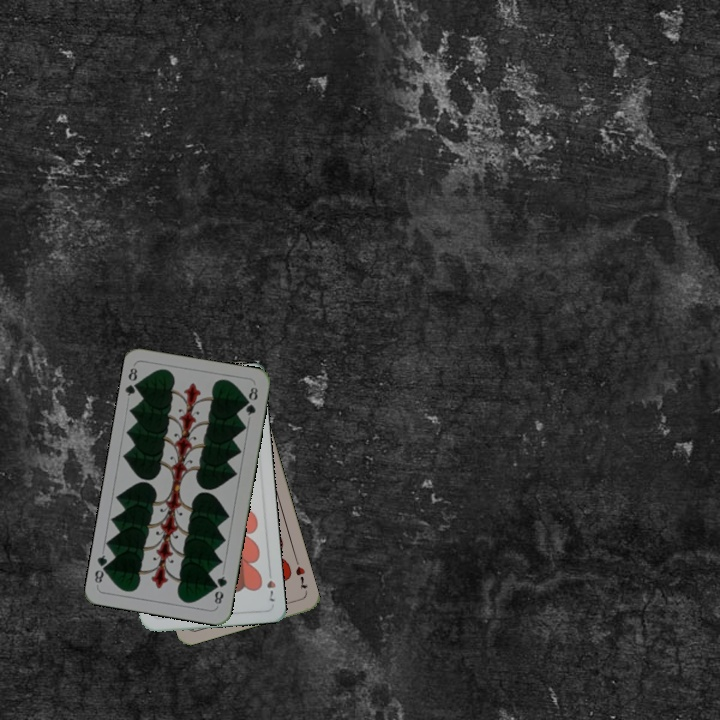G8: (122, 364, 144, 398), (210, 572, 230, 607)
H7: (291, 562, 310, 592), (263, 576, 278, 604)
